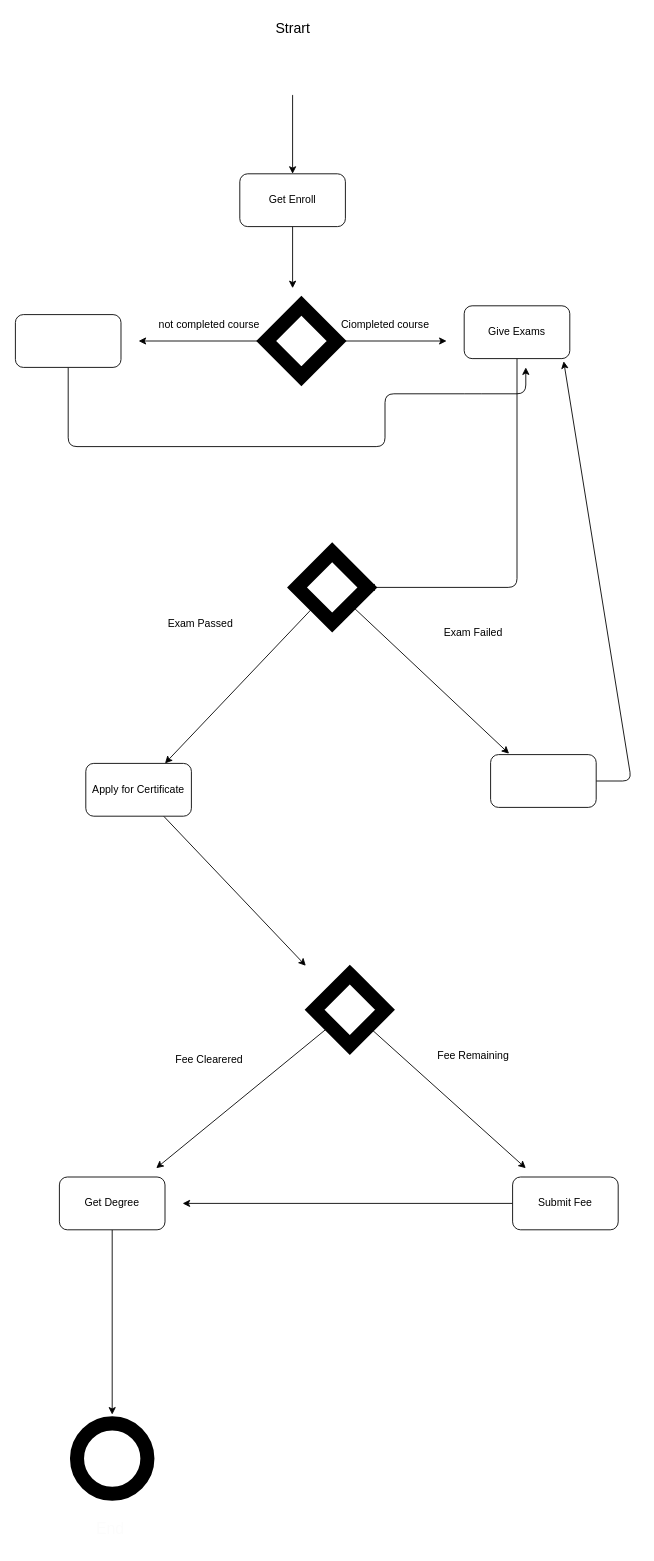
Some shapes in this 654 by 1561 pixel diagram are drawn without their labels. Here are the shapes that lost their labels. From the top down, the box of each, then its label:
(15, 314, 121, 367): Take Classes
(490, 754, 596, 807): Retake Exam
